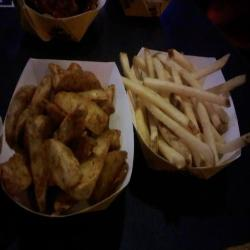fries: (9, 62, 117, 205), (134, 55, 233, 166)
